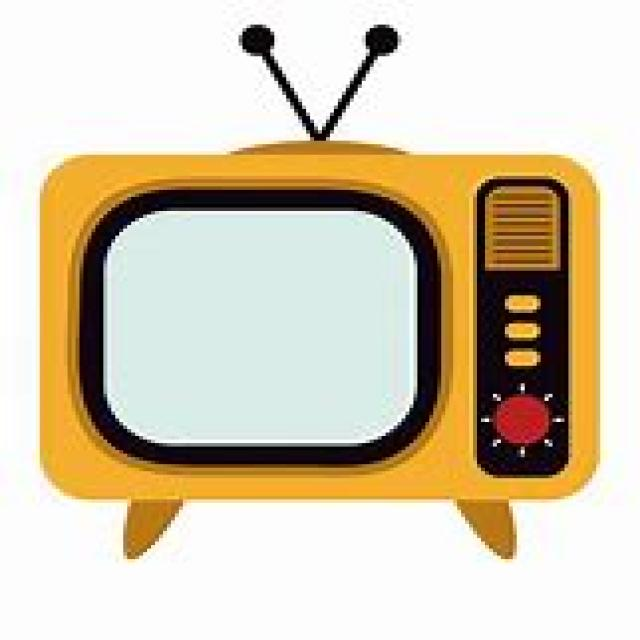tv: (36, 141, 600, 559)
